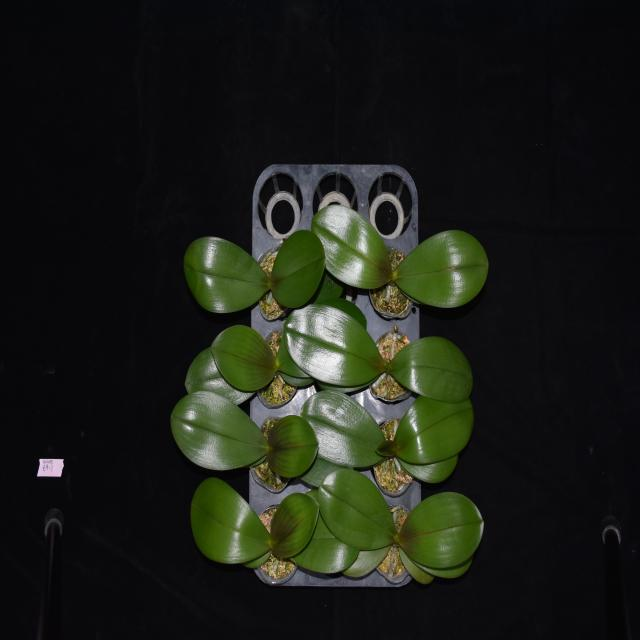leaf: (166, 386, 268, 475), (283, 305, 386, 381), (181, 234, 271, 317), (312, 200, 396, 288), (191, 476, 271, 568), (397, 229, 490, 307), (398, 493, 486, 568), (318, 468, 398, 546), (304, 390, 385, 465), (292, 488, 357, 577), (388, 337, 476, 400), (397, 398, 474, 464), (210, 323, 280, 393), (271, 230, 326, 309), (184, 349, 258, 406), (267, 414, 322, 481), (272, 490, 319, 567), (397, 450, 461, 482), (344, 546, 390, 580), (398, 543, 431, 585), (375, 438, 395, 464)
